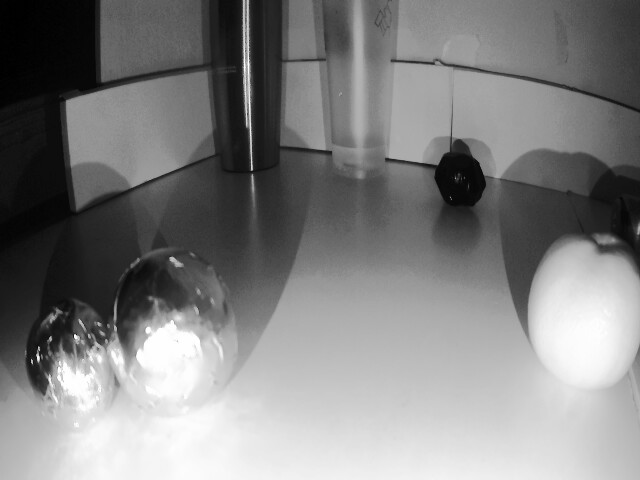black: (112, 255, 244, 411), (22, 304, 128, 430)
silver: (430, 154, 486, 212)
